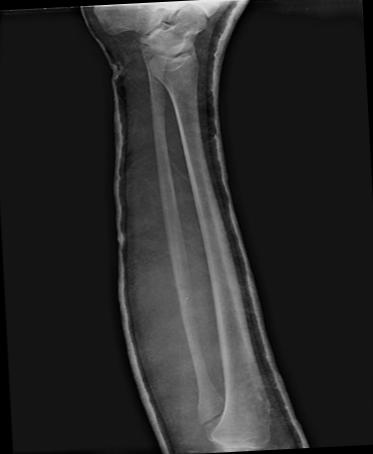fractured: (172, 274, 196, 314)
